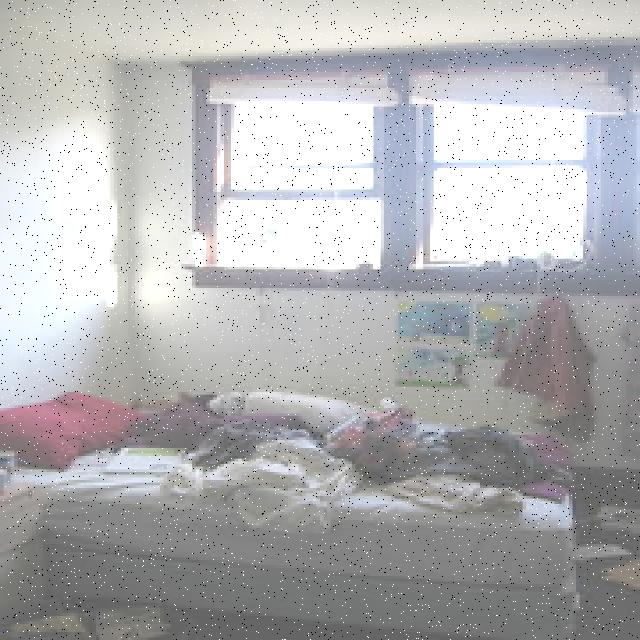bed: (6, 365, 585, 589)
